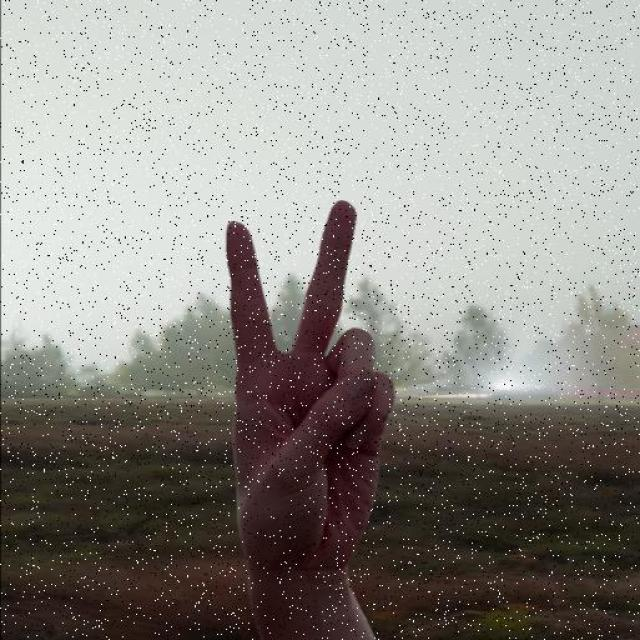V: (212, 195, 399, 617)
